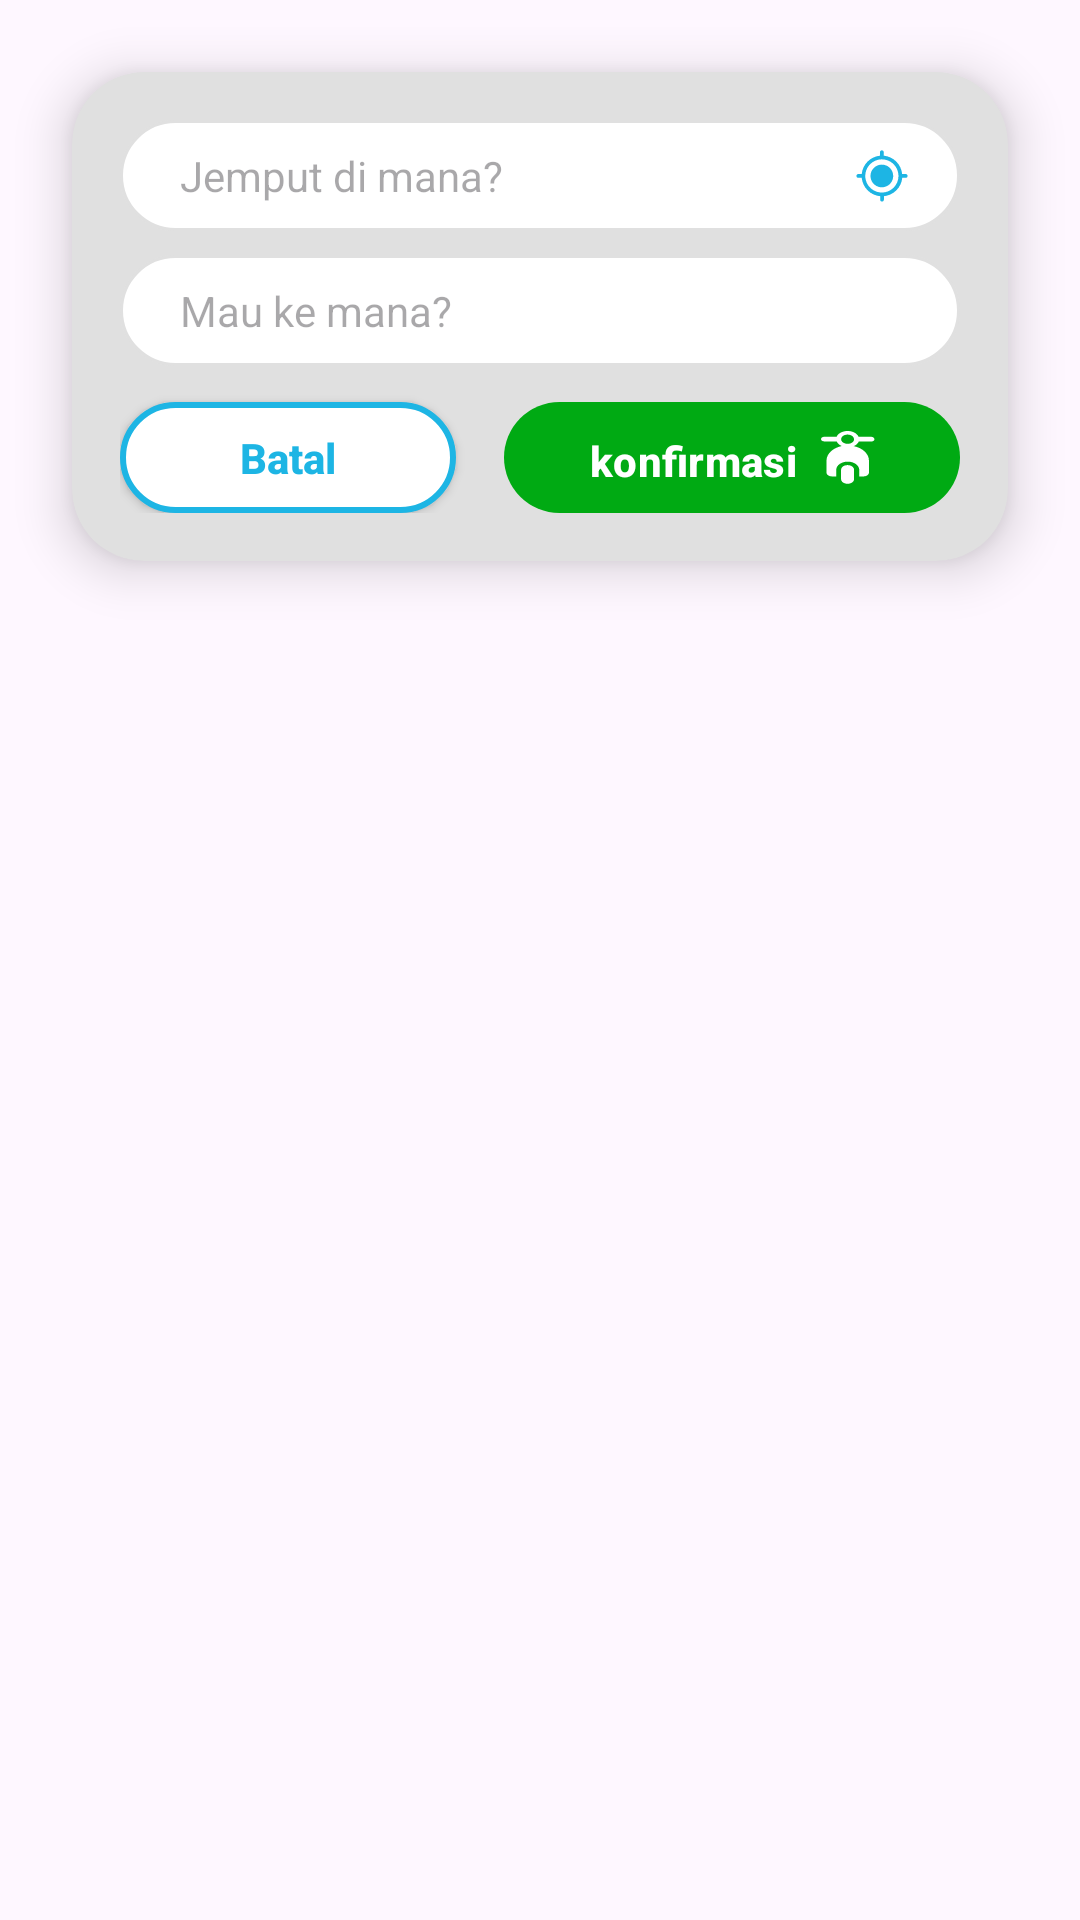

Where to tap for icons on this 1080x1920 app screen, as (x=x, y=y):
Ikon Lokasi: (x=882, y=176)
